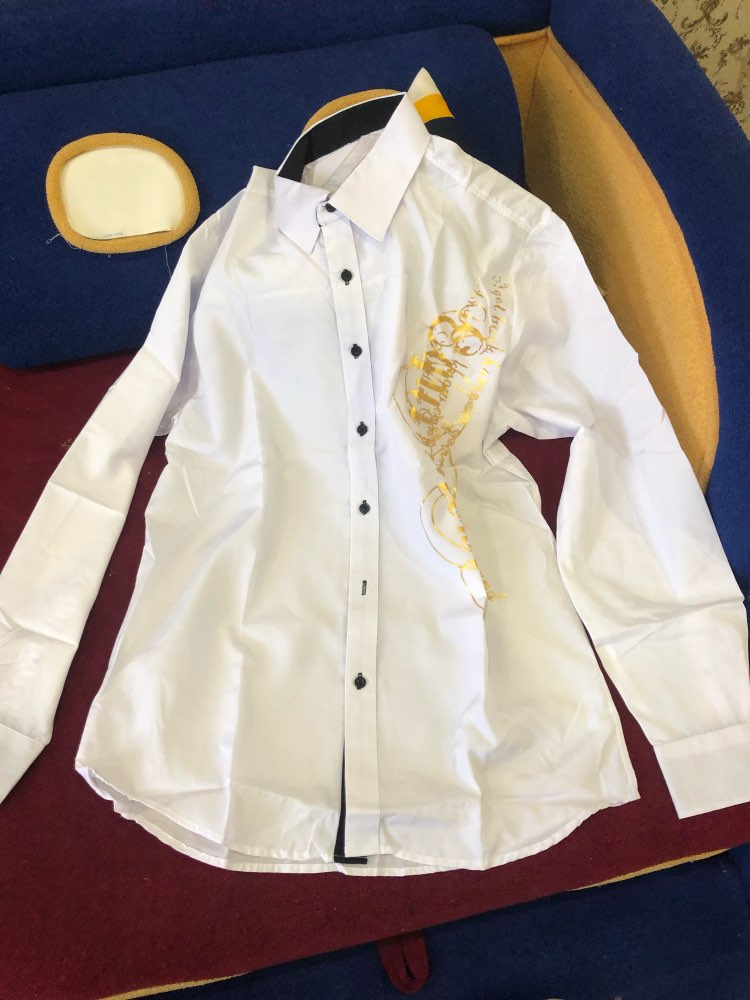shirts: (51, 118, 750, 850)
